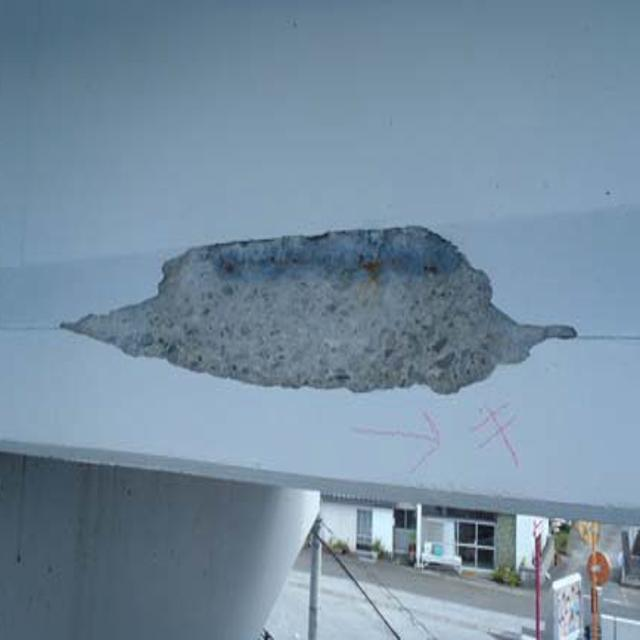spalling: (41, 198, 582, 423)
